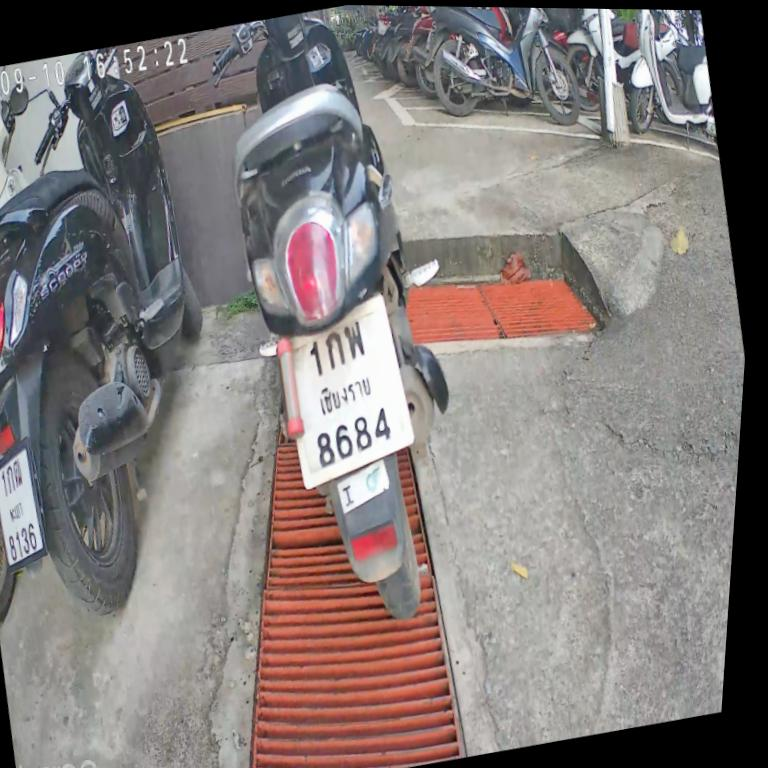license plate: (250, 280, 434, 494), (0, 430, 68, 574)
